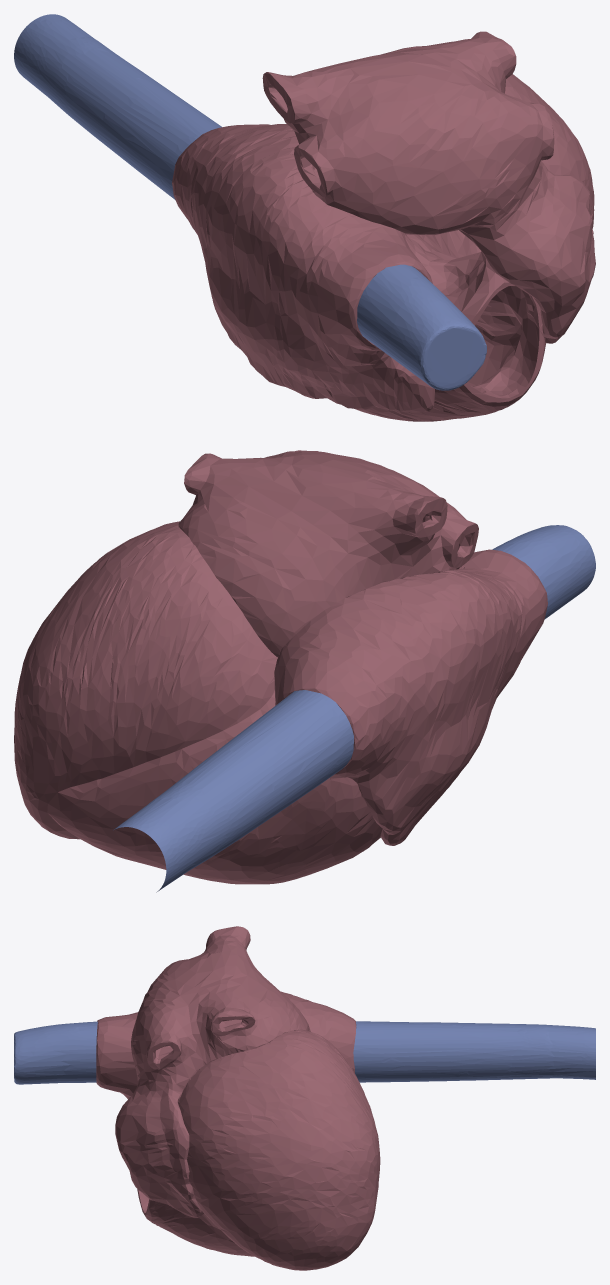
Rendered from heart_model.glb.
3 renders of one model, top to bottom at view 1: azimuth 30°, elevation 25°; view 2: azimuth 150°, elevation 25°; view 3: azimuth 270°, elevation 25°, orthographic. The views are drawn at different scales.
Parts seen in each view (by area): view 1: HeartWall, IVC, SVC; view 2: HeartWall, IVC, SVC; view 3: HeartWall, IVC, SVC.
Part boxes in pixels (<box>): HeartWall: <box>172,31,595,421</box>; IVC: <box>14,14,222,199</box>; SVC: <box>357,264,486,390</box>; HeartWall: <box>14,450,547,884</box>; IVC: <box>113,690,353,892</box>; SVC: <box>492,525,595,619</box>; HeartWall: <box>96,926,380,1270</box>; IVC: <box>353,1021,595,1082</box>; SVC: <box>14,1021,97,1084</box>.
Size of the model in its own units: 2 by 1.9 by 3.74.
